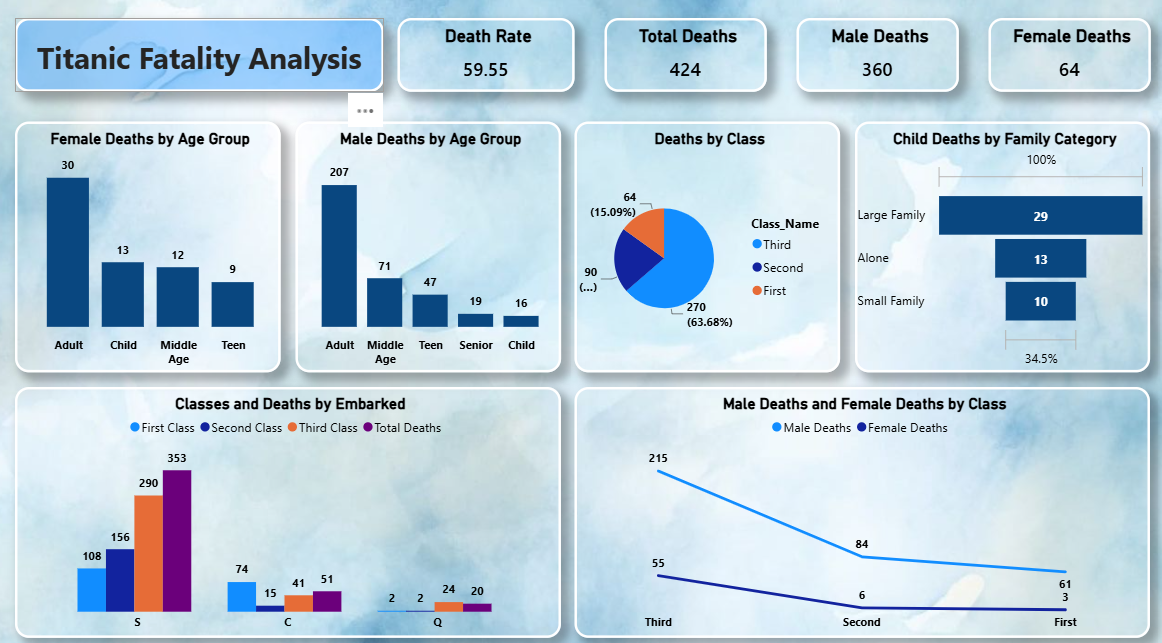

The dashboard page shown, as its layout file describes it:
{"tool":"powerbi","page":{"name":"Ds - 2","canvas":[1280,720],"ordinal":1},"visuals":[{"type":"clusteredColumnChart","fields":{"Category":["train.Age Group"],"Y":["train.Female Deaths"]},"box":[32,144,288,272],"z":0},{"type":"clusteredColumnChart","fields":{"Category":["train.Age Group"],"Y":["train.Male Deaths"]},"box":[336,144,288,272],"z":1000},{"type":"textbox","box":[32,32,400,80],"z":2000},{"type":"cardVisual","title":"Death Rate","fields":{"Data":["train.Death Rate"]},"box":[448,32,192,80],"z":3000},{"type":"cardVisual","title":"Male Deaths","fields":{"Data":["train.Male Deaths"]},"box":[880,32,176,80],"z":4000},{"type":"cardVisual","title":"Female Deaths","fields":{"Data":["train.Female Deaths"]},"box":[1088,32,176,80],"z":5000},{"type":"cardVisual","title":"Total Deaths","fields":{"Data":["train.Total Deaths"]},"box":[672,32,176,80],"z":6000},{"type":"pieChart","title":"Deaths by Class","fields":{"Y":["train.Total Deaths"],"Category":["train.Class_Name"]},"box":[640,144,288,272],"z":7000},{"type":"funnel","fields":{"Y":["train.Child Deaths"],"Category":["train.Family Category"]},"box":[944,144,320,272],"z":8000},{"type":"clusteredColumnChart","title":" Classes and Deaths by Embarked","fields":{"Category":["train.Embarked"],"Y":["train.First Class","train.Second Class","train.Third Class","train.Total Deaths"]},"box":[32,432,592,272],"z":9000},{"type":"lineChart","title":"Male Deaths and Female Deaths by Class","fields":{"Y":["train.Male Deaths","train.Female Deaths"],"Category":["train.Class_Name"]},"box":[640,432,624,272],"z":10000}]}

Visuals, with their boxes in screenshot pixels (x1, y1, x2, y2), scaled from the page's 1280x720 canvas onto the 1162x643 screenshot:
clusteredColumnChart - train.Age Group x train.Female Deaths: {"x1": 29, "y1": 129, "x2": 290, "y2": 372}
clusteredColumnChart - train.Age Group x train.Male Deaths: {"x1": 305, "y1": 129, "x2": 566, "y2": 372}
textbox: {"x1": 29, "y1": 29, "x2": 392, "y2": 100}
"Death Rate" cardVisual: {"x1": 407, "y1": 29, "x2": 581, "y2": 100}
"Male Deaths" cardVisual: {"x1": 799, "y1": 29, "x2": 959, "y2": 100}
"Female Deaths" cardVisual: {"x1": 988, "y1": 29, "x2": 1147, "y2": 100}
"Total Deaths" cardVisual: {"x1": 610, "y1": 29, "x2": 770, "y2": 100}
"Deaths by Class" pieChart: {"x1": 581, "y1": 129, "x2": 842, "y2": 372}
funnel - train.Child Deaths x train.Family Category: {"x1": 857, "y1": 129, "x2": 1147, "y2": 372}
" Classes and Deaths by Embarked" clusteredColumnChart: {"x1": 29, "y1": 386, "x2": 566, "y2": 629}
"Male Deaths and Female Deaths by Class" lineChart: {"x1": 581, "y1": 386, "x2": 1147, "y2": 629}
